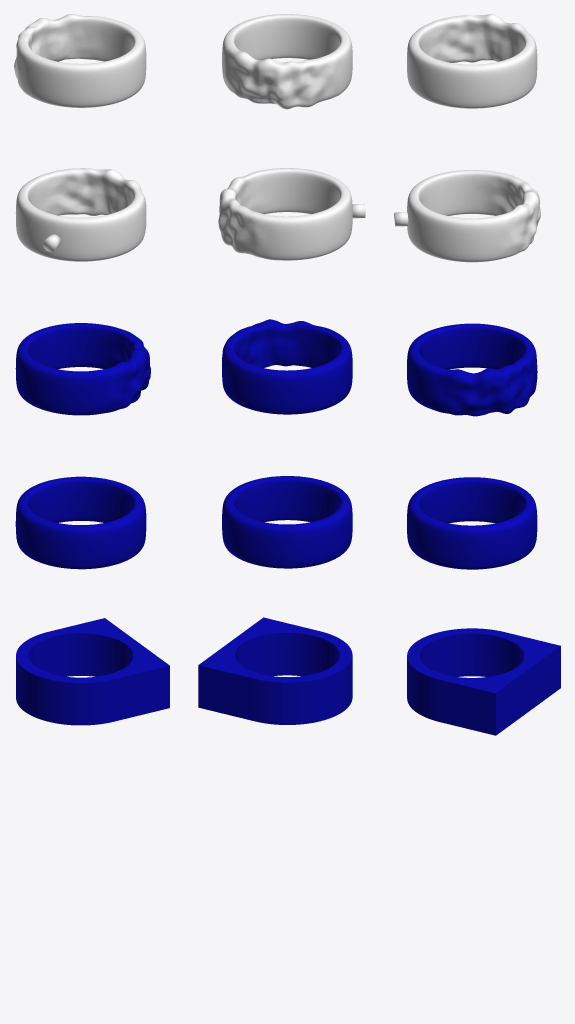
File: dripped_goods_ar_ring_process.glb
3 views of the same model, side by side, from view 1: azimuth 30°, elevation 25°; view 2: azimuth 150°, elevation 25°; view 3: azimuth 330°, elevation 25° (orthographic).
Visible parts, largest first — view 1: Cylinder.002, Torus.003, Torus.002, Torus.004, Torus.001; view 2: Cylinder.002, Torus.003, Torus.002, Torus.004, Torus.001; view 3: Cylinder.002, Torus.003, Torus.004, Torus.002, Torus.001.
Boxes of the visible parts, x1,y1,x2,y2 form: Cylinder.002: [16, 618, 169, 725]; Torus.003: [15, 168, 146, 261]; Torus.002: [15, 323, 150, 415]; Torus.004: [14, 14, 146, 107]; Torus.001: [15, 476, 146, 569]; Cylinder.002: [198, 617, 352, 724]; Torus.003: [218, 168, 365, 260]; Torus.002: [222, 319, 352, 414]; Torus.004: [222, 14, 352, 109]; Torus.001: [222, 476, 352, 568]; Cylinder.002: [407, 628, 560, 735]; Torus.003: [394, 170, 540, 262]; Torus.004: [407, 14, 537, 108]; Torus.002: [407, 323, 537, 416]; Torus.001: [407, 477, 537, 569].
Bounding box in the file's own units: 0.2377 × 1.9 × 0.2359.
